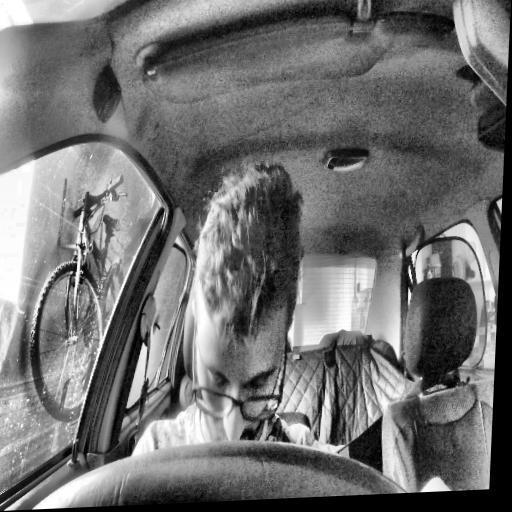drowsy: (184, 162, 307, 457)
